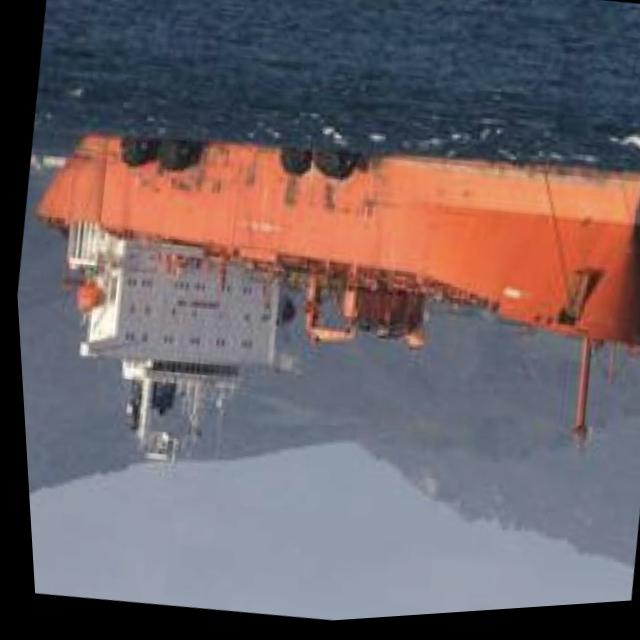ship2: (30, 133, 640, 480)
